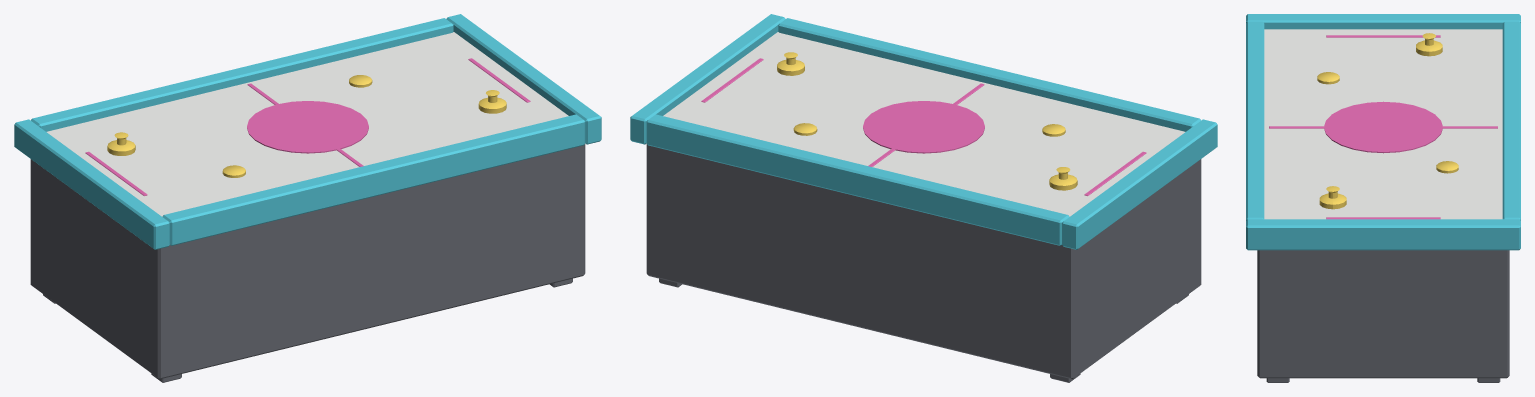
Rendered from laser-tag-arena-and-activity-centre-air-hockey-table-f0a5e926__34503.glb.
3 views of the same model, side by side, from view 1: azimuth 30°, elevation 25°; view 2: azimuth 150°, elevation 25°; view 3: azimuth 270°, elevation 25° (orthographic). The views are drawn at different scales.
Visible parts, largest first — view 1: air-hockey-table; view 2: air-hockey-table; view 3: air-hockey-table.
Boxes of the visible parts, bbox=[...] form: air-hockey-table: bbox=[14, 14, 601, 382]; air-hockey-table: bbox=[630, 14, 1217, 382]; air-hockey-table: bbox=[1246, 14, 1520, 382].
Bounding box in the file's own units: 2.2 × 0.8349 × 1.2.
